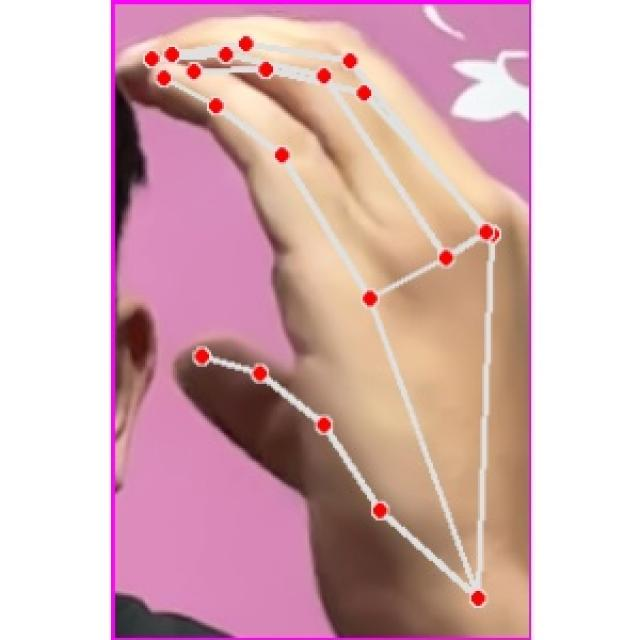C: (123, 9, 529, 617)
